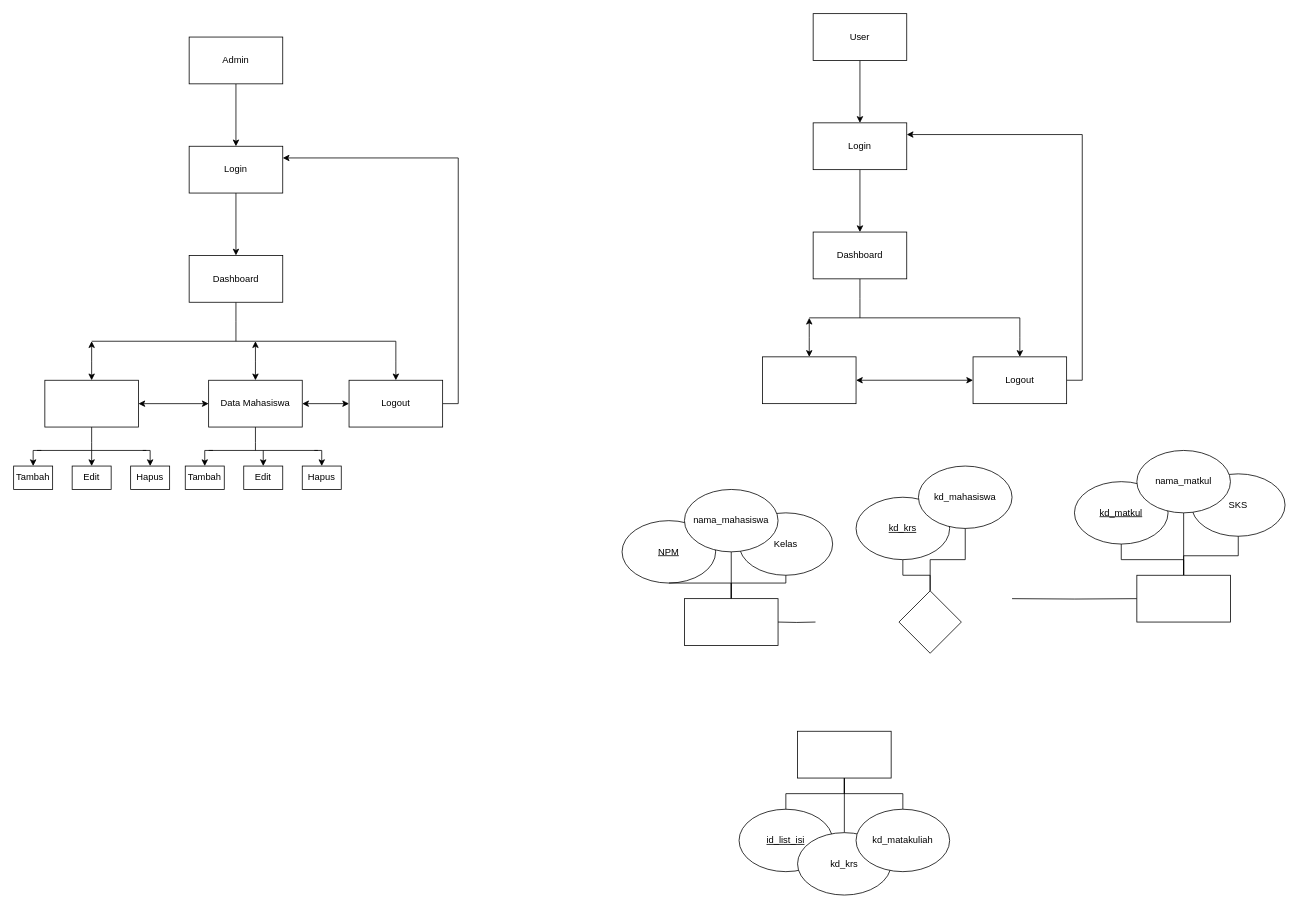
The diagram is 1299 pixels wide and 909 high, and some of its shapes have lost their labels. Here are the shapes that lost their labels. From the top down, the box of each, then its label:
(762, 356, 856, 404): KRS
(44, 379, 138, 427): Data Mata Kuliah
(1136, 574, 1230, 622): Mata Kuliah
(684, 598, 778, 645): Mahasiswa
(797, 730, 891, 778): list_isi_krs
